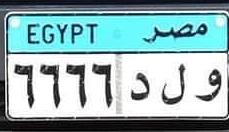6: (12, 62, 37, 111), (63, 60, 89, 107), (38, 60, 63, 108), (90, 59, 115, 106)
daal: (126, 69, 151, 105)
laam: (160, 61, 187, 108)
waw: (193, 66, 223, 104)
